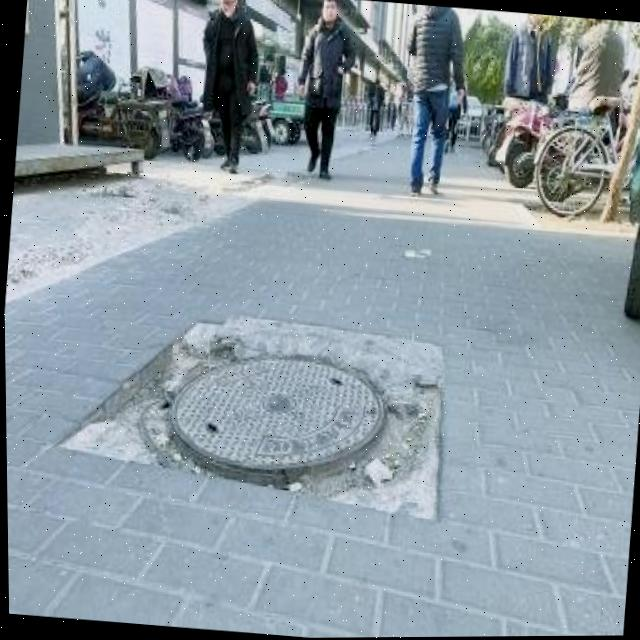manhole: (112, 304, 442, 512)
